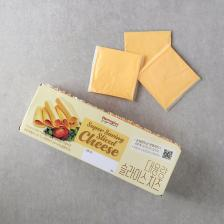cheese: (137, 45, 201, 111), (88, 45, 144, 102), (123, 30, 172, 71)
